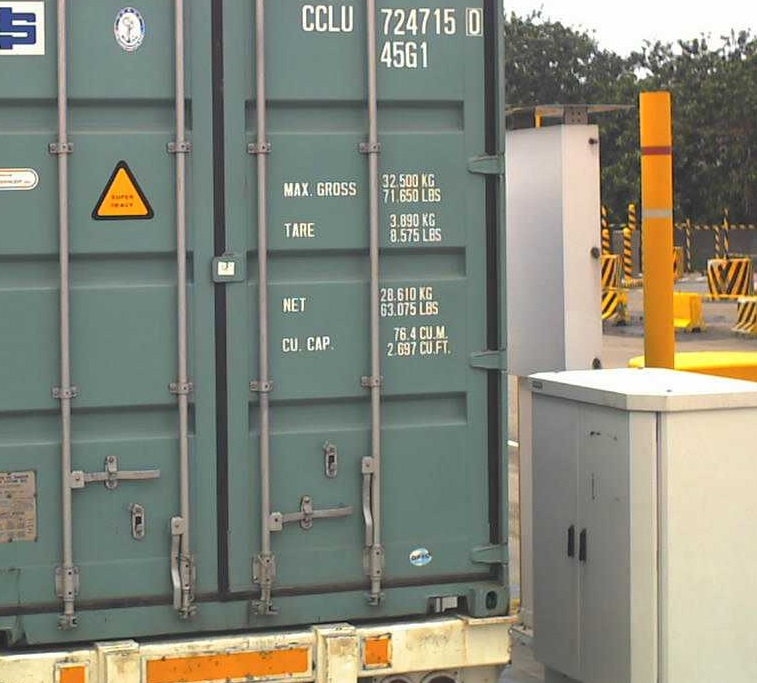container_door: (4, 1, 505, 653)
